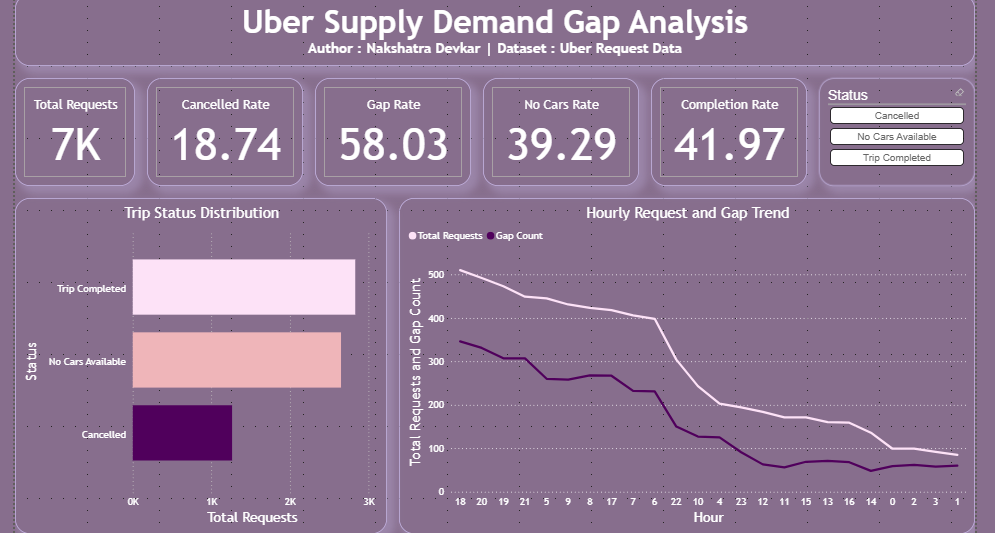

The page's visual inventory and layout, read from the dashboard file:
{"tool":"powerbi","page":{"name":"Page 1","canvas":[1280,720],"ordinal":0},"visuals":[{"type":"textbox","box":[0,0,1280,96],"z":0},{"type":"cardVisual","fields":{"Data":["Uber Request Data.Total Requests"]},"box":[0,112,160,144],"z":1000},{"type":"cardVisual","fields":{"Data":["Uber Request Data.Completion Rate"]},"box":[848,112,208,144],"z":2000},{"type":"cardVisual","fields":{"Data":["Uber Request Data.No Cars Rate"]},"box":[624,112,208,144],"z":3000},{"type":"cardVisual","fields":{"Data":["Uber Request Data.Cancelled Rate"]},"box":[176,112,208,144],"z":4000},{"type":"cardVisual","fields":{"Data":["Uber Request Data.Gap Rate"]},"box":[400,112,208,144],"z":5000},{"type":"clusteredBarChart","title":"Trip Status Distribution","fields":{"Category":["Uber Request Data.Status"],"Y":["Uber Request Data.Total Requests"]},"box":[0,272,496,448],"z":6000},{"type":"lineChart","title":"Hourly Request and Gap Trend","fields":{"Category":["Uber Request Data.Hour"],"Y":["Uber Request Data.Total Requests","Uber Request Data.Gap Count"]},"box":[512,272,768,448],"z":7000},{"type":"ChicletSlicer1448559807354","fields":{"Category":["Uber Request Data.Status"]},"box":[1072,112,208,144],"z":8000}]}

Visuals, with their boxes on the page's 1280x720 design canvas (x1, y1, x2, y2). These are canvas units, not pixel positions in the 995x533 screenshot, which may show the page scaled, cropped or inside an application window:
textbox: x1=0, y1=0, x2=1280, y2=96
cardVisual - Uber Request Data.Total Requests: x1=0, y1=112, x2=160, y2=256
cardVisual - Uber Request Data.Completion Rate: x1=848, y1=112, x2=1056, y2=256
cardVisual - Uber Request Data.No Cars Rate: x1=624, y1=112, x2=832, y2=256
cardVisual - Uber Request Data.Cancelled Rate: x1=176, y1=112, x2=384, y2=256
cardVisual - Uber Request Data.Gap Rate: x1=400, y1=112, x2=608, y2=256
"Trip Status Distribution" clusteredBarChart: x1=0, y1=272, x2=496, y2=720
"Hourly Request and Gap Trend" lineChart: x1=512, y1=272, x2=1280, y2=720
ChicletSlicer1448559807354 - Uber Request Data.Status: x1=1072, y1=112, x2=1280, y2=256
